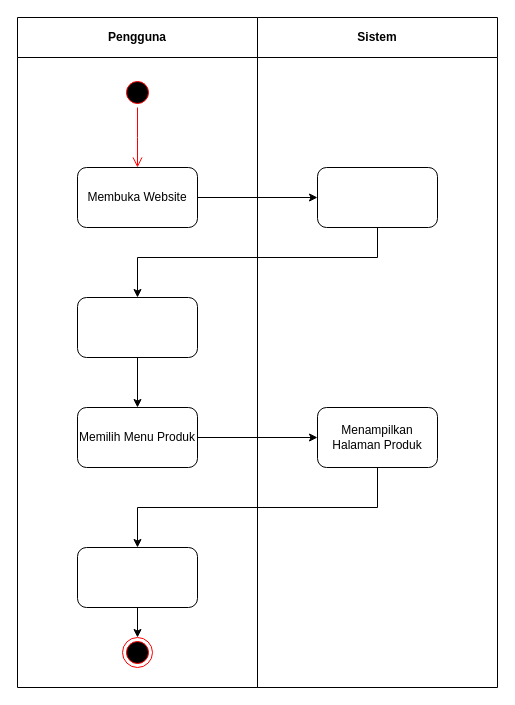
The diagram is 515 pixels wide and 705 high, and some of its shapes have lost their labels. Each missing label, with the centre of its shape:
"Melihat Halaman Beranda" belongs at pixel 137 327.
"Melihat Halaman Produk" belongs at pixel 137 577.
"Menampilkan Halaman Beranda" belongs at pixel 377 197.
